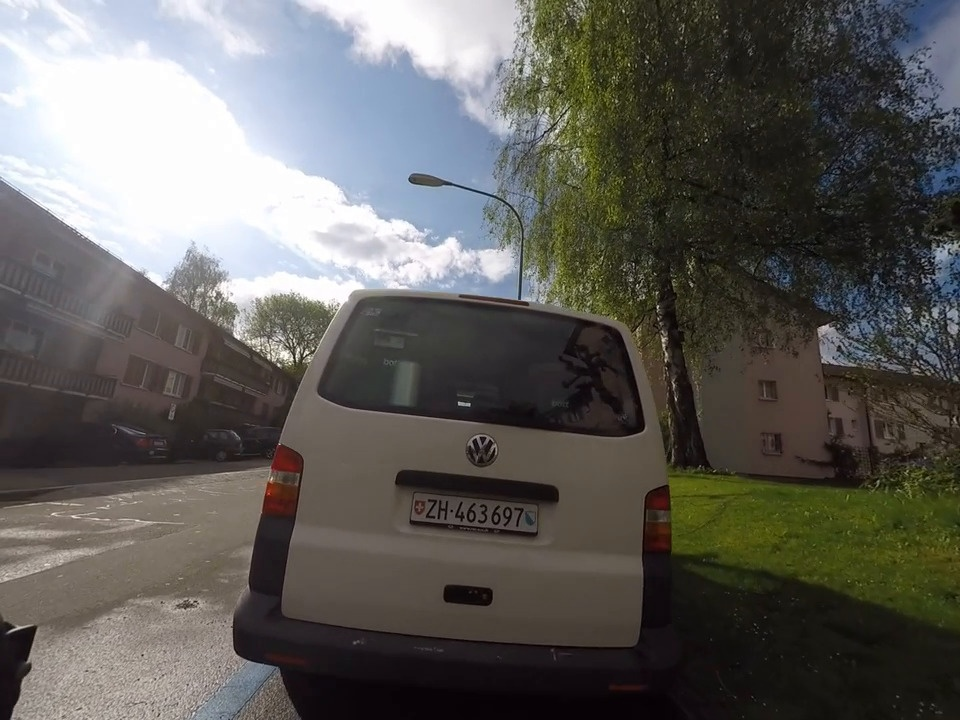car: (217, 268, 701, 709)
